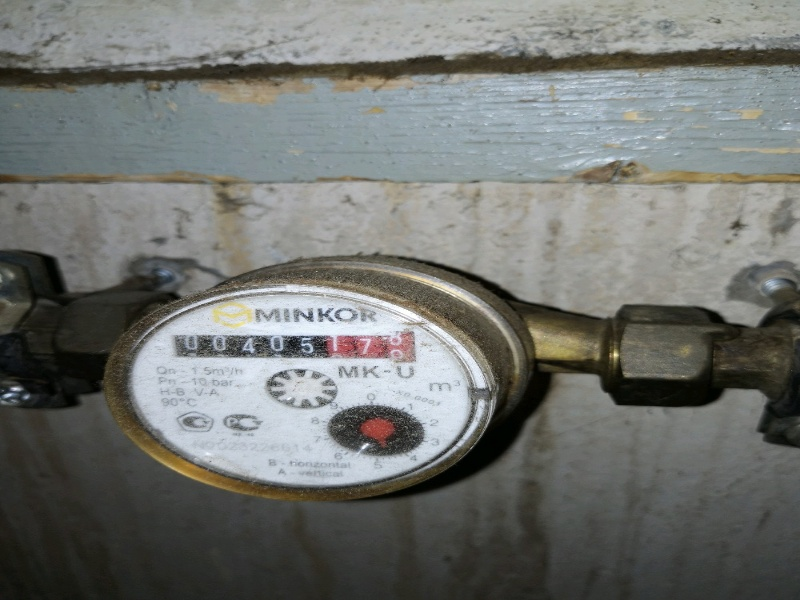meter: (173, 327, 413, 362)
